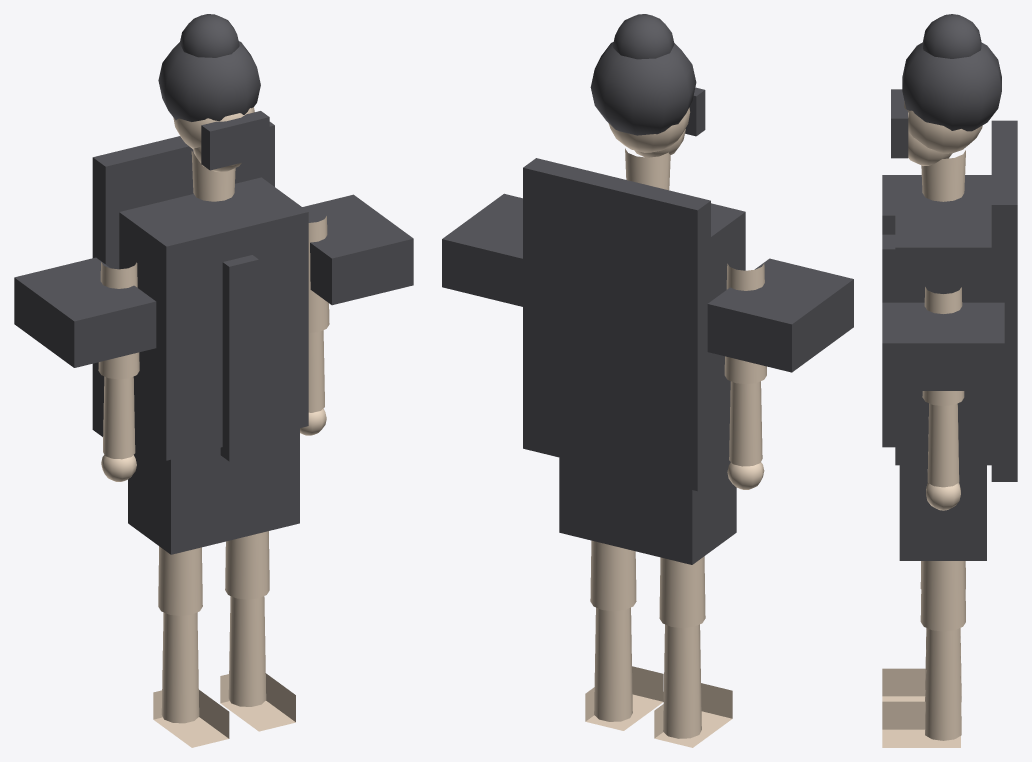
File: body.glb
3 views of the same model, side by side, from view 1: azimuth 30°, elevation 25°; view 2: azimuth 150°, elevation 25°; view 3: azimuth 270°, elevation 25° (orthographic). The views are drawn at different scales.
Parts seen in each view (by area): view 1: Cloth, Skin, Hair; view 2: Cloth, Skin, Hair; view 3: Cloth, Skin, Hair.
Boxes of the visible parts, x1=… form: Cloth: x1=14, y1=111, x2=413, y2=554; Skin: x1=98, y1=107, x2=329, y2=747; Hair: x1=158, y1=14, x2=260, y2=121; Cloth: x1=442, y1=87, x2=853, y2=564; Skin: x1=585, y1=107, x2=766, y2=747; Hair: x1=590, y1=14, x2=696, y2=135; Cloth: x1=882, y1=89, x2=1017, y2=560; Skin: x1=882, y1=101, x2=982, y2=747; Hair: x1=902, y1=14, x2=1001, y2=131.
Bounding box in the file's own units: 0.9124 × 1.78 × 0.31.
